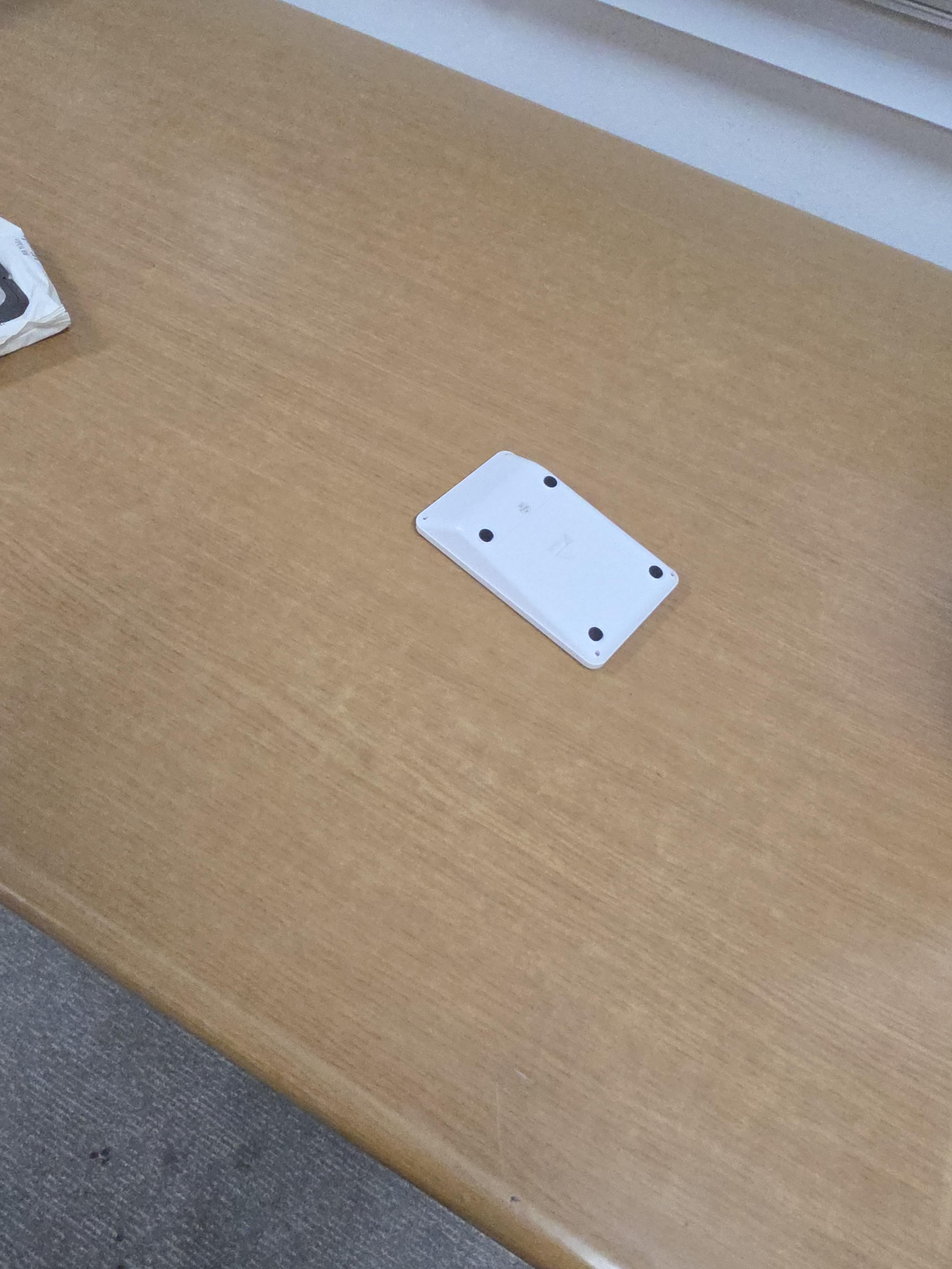calculator: (413, 450, 679, 670)
tissue: (0, 217, 71, 358)
